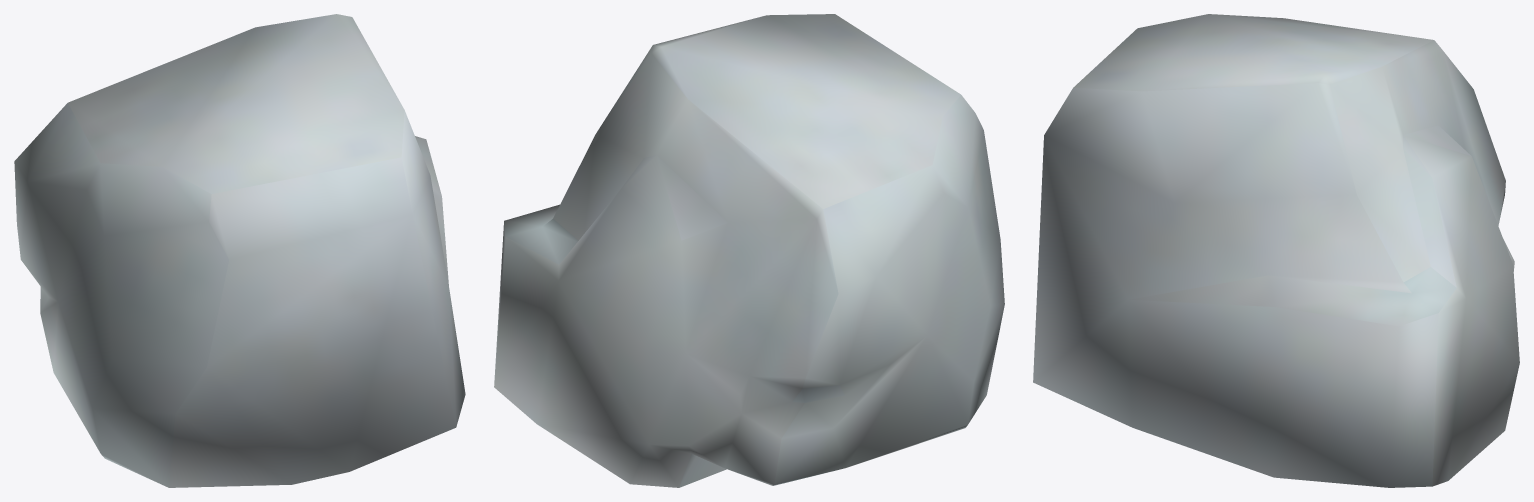
File: P_RockSpire_Rock07.obj
The picture shows the model from 3 angles, left to right: view 1: azimuth 30°, elevation 25°; view 2: azimuth 150°, elevation 25°; view 3: azimuth 270°, elevation 25°; orthographic projection. The views are drawn at different scales.
Size of the model in its own units: 5.1 by 4.49 by 4.96.
